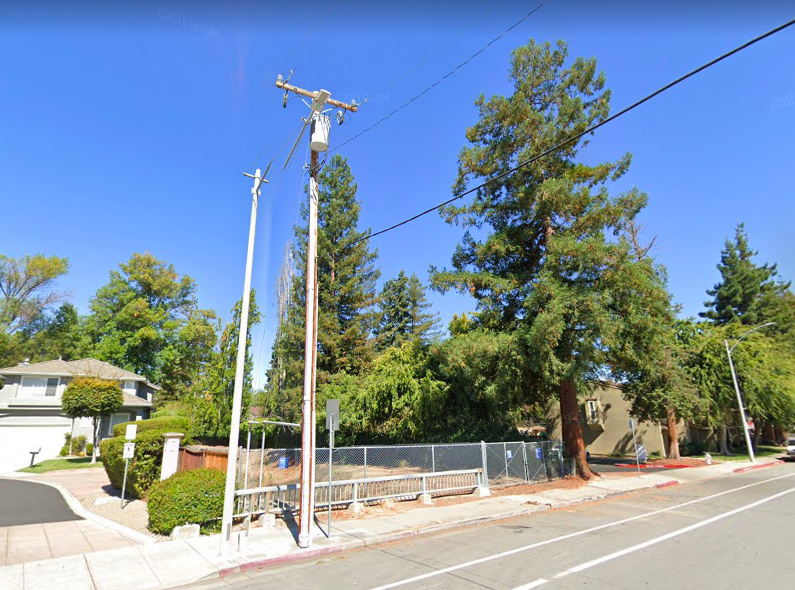tree: (426, 36, 683, 479)
utility_pole: (267, 60, 366, 178), (235, 151, 276, 221)
